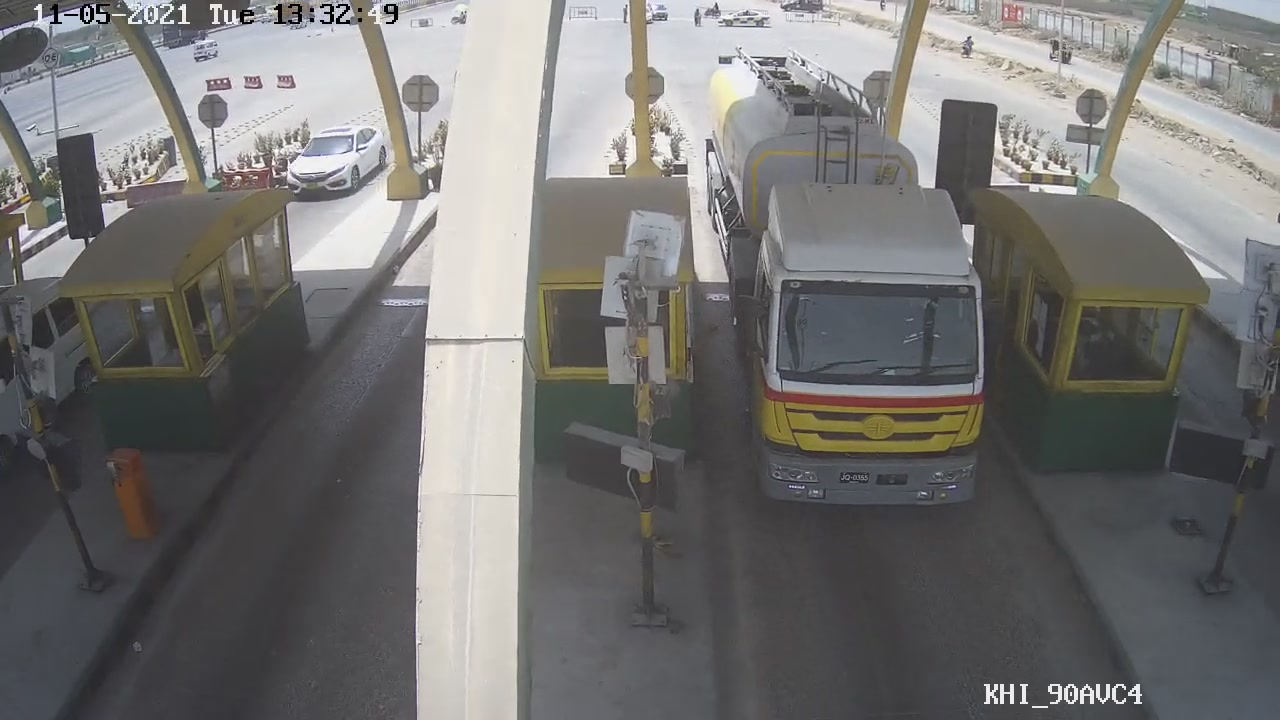F6: (696, 49, 987, 519)
